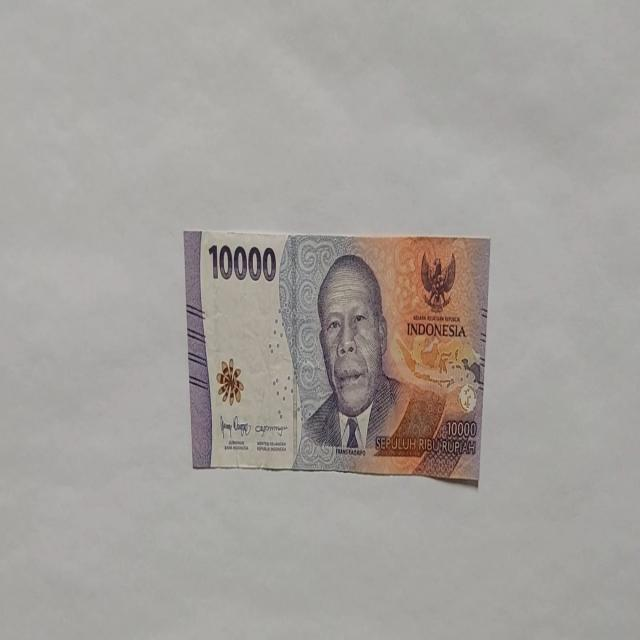sepuluh ribu rupiah: (184, 228, 491, 484), (291, 251, 446, 473)
